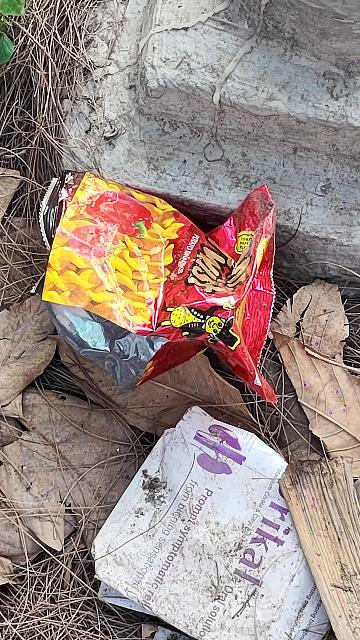packet: (25, 166, 336, 386)
